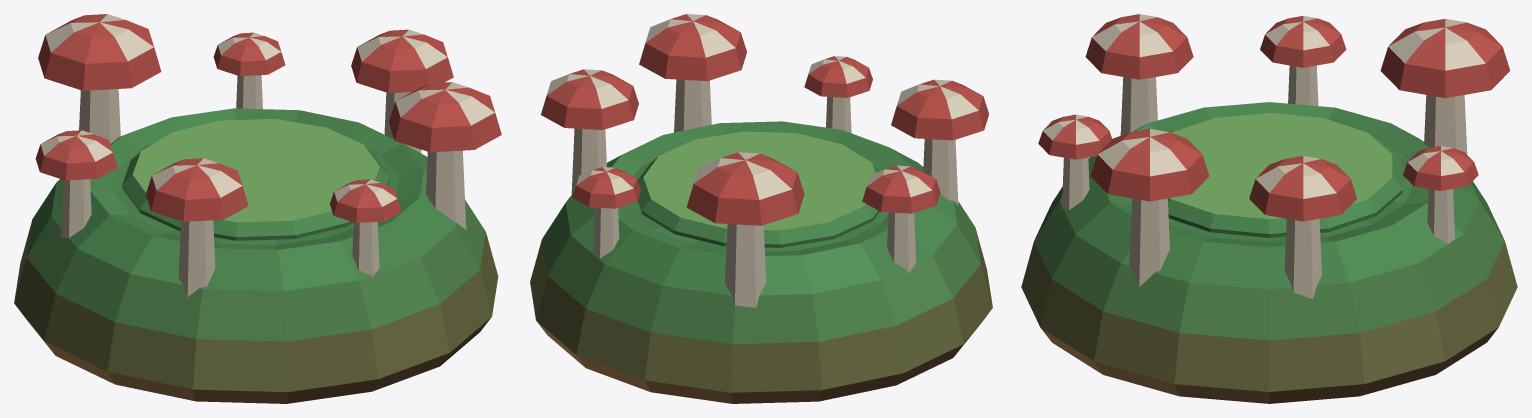
File: habitat_mushroom_ring.fbx
3 renders of one model, left to right at view 1: azimuth 30°, elevation 25°; view 2: azimuth 150°, elevation 25°; view 3: azimuth 270°, elevation 25°, orthographic. The views are drawn at different scales.
Parts seen in each view (by area): view 1: habitat_mushroom_ring; view 2: habitat_mushroom_ring; view 3: habitat_mushroom_ring.
Boxes of the visible parts, bbox=[...] form: habitat_mushroom_ring: bbox=[14, 14, 501, 403]; habitat_mushroom_ring: bbox=[530, 14, 992, 403]; habitat_mushroom_ring: bbox=[1021, 14, 1517, 403].
Size of the model in its own units: 7.8 by 4.2 by 7.8.
